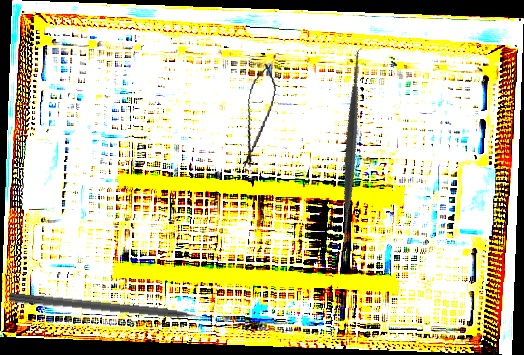Micro Scissor: (235, 59, 281, 172)
Pusher: (8, 291, 222, 327)
Spatula Surgical: (247, 43, 456, 251)
